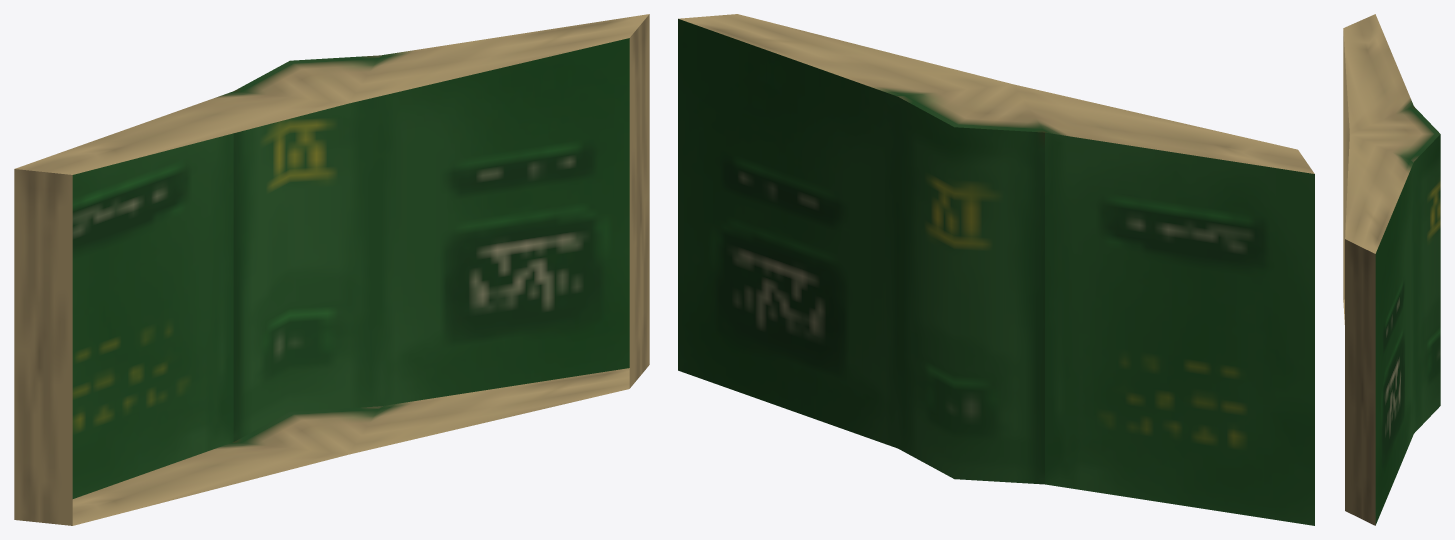
The model's file is props_book_downside.fbx.
The picture shows the model from 3 angles, left to right: view 1: azimuth 30°, elevation 25°; view 2: azimuth 150°, elevation 25°; view 3: azimuth 270°, elevation 25°; orthographic projection. The views are drawn at different scales.
Visible parts, largest first — view 1: book_downside; view 2: book_downside; view 3: book_downside.
Boxes of the visible parts, left/top/right/bottom form: book_downside: left=14, top=14, right=649, bottom=525; book_downside: left=678, top=14, right=1314, bottom=525; book_downside: left=1343, top=14, right=1440, bottom=525.
Bounding box in the file's own units: 0.5673 × 0.2995 × 0.0972.
Materials: 1 (1 with a texture image).
